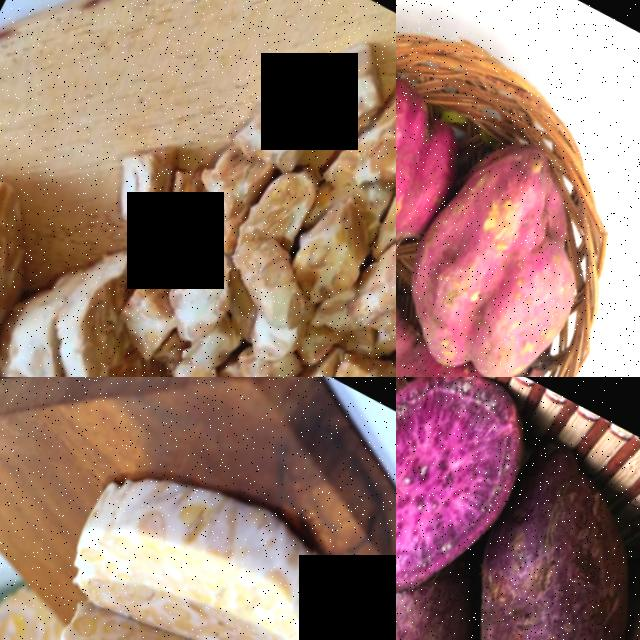sweet potato: (396, 110, 631, 377), (428, 418, 640, 640), (396, 377, 548, 618), (396, 48, 483, 285), (396, 285, 512, 377)
tempeh: (51, 428, 361, 640), (0, 214, 154, 377), (12, 564, 318, 640), (0, 151, 60, 377)
